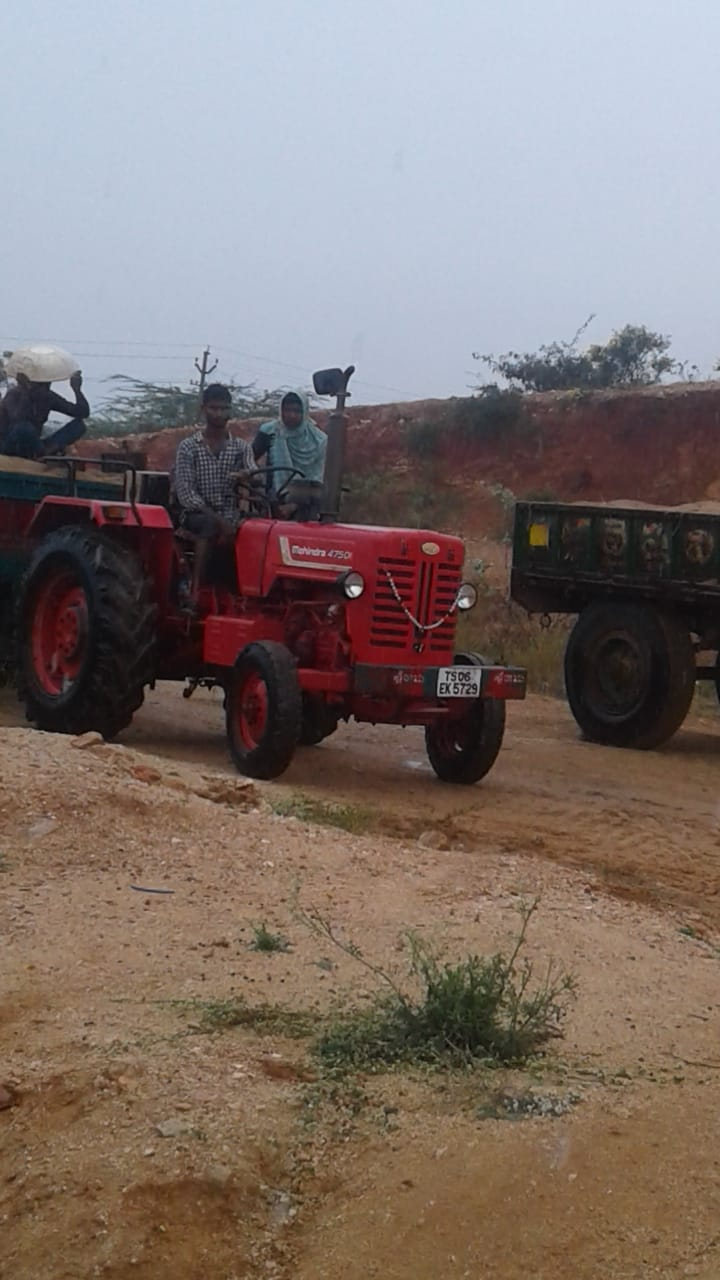num_plate: (434, 666, 493, 699)
